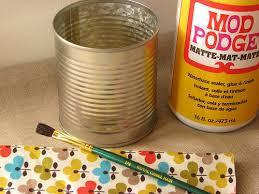Tin: (43, 1, 171, 151)
